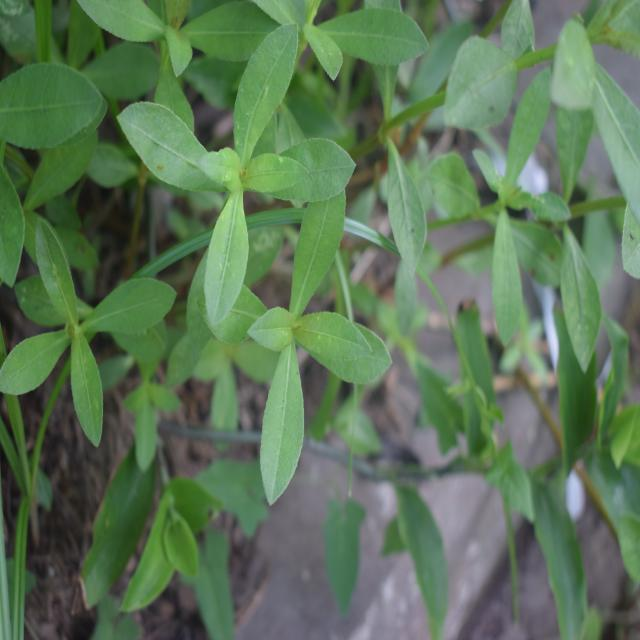Alligatorweed: (121, 46, 366, 299), (445, 26, 588, 364), (246, 170, 398, 480), (8, 217, 159, 447)
